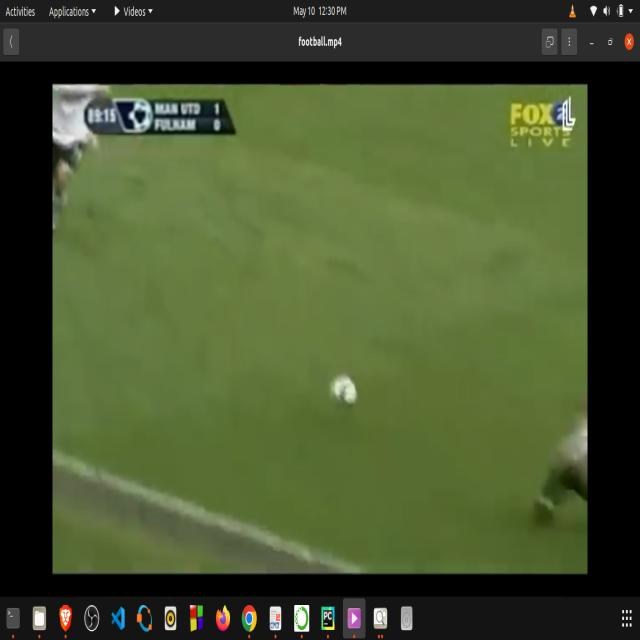Ball: (328, 361, 363, 425)
football-players: (541, 388, 586, 527)
